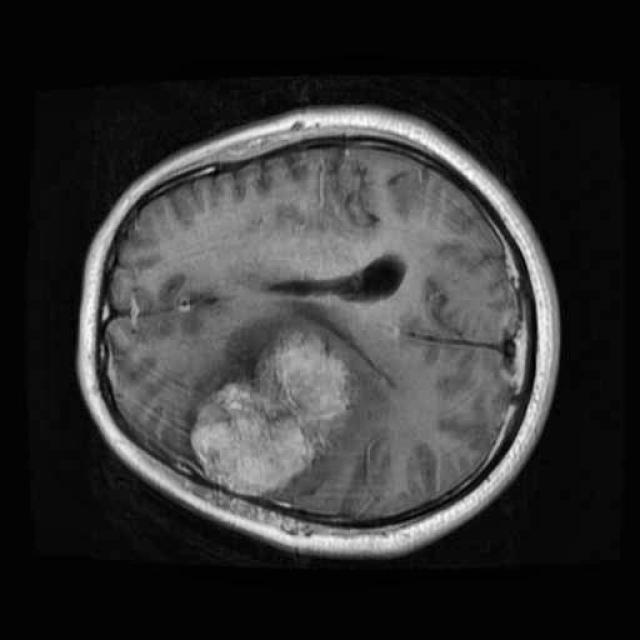Tumor: (173, 316, 364, 510)
